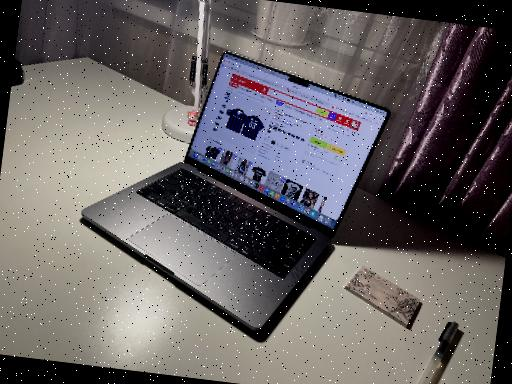aliexpress: (200, 80, 365, 181)
